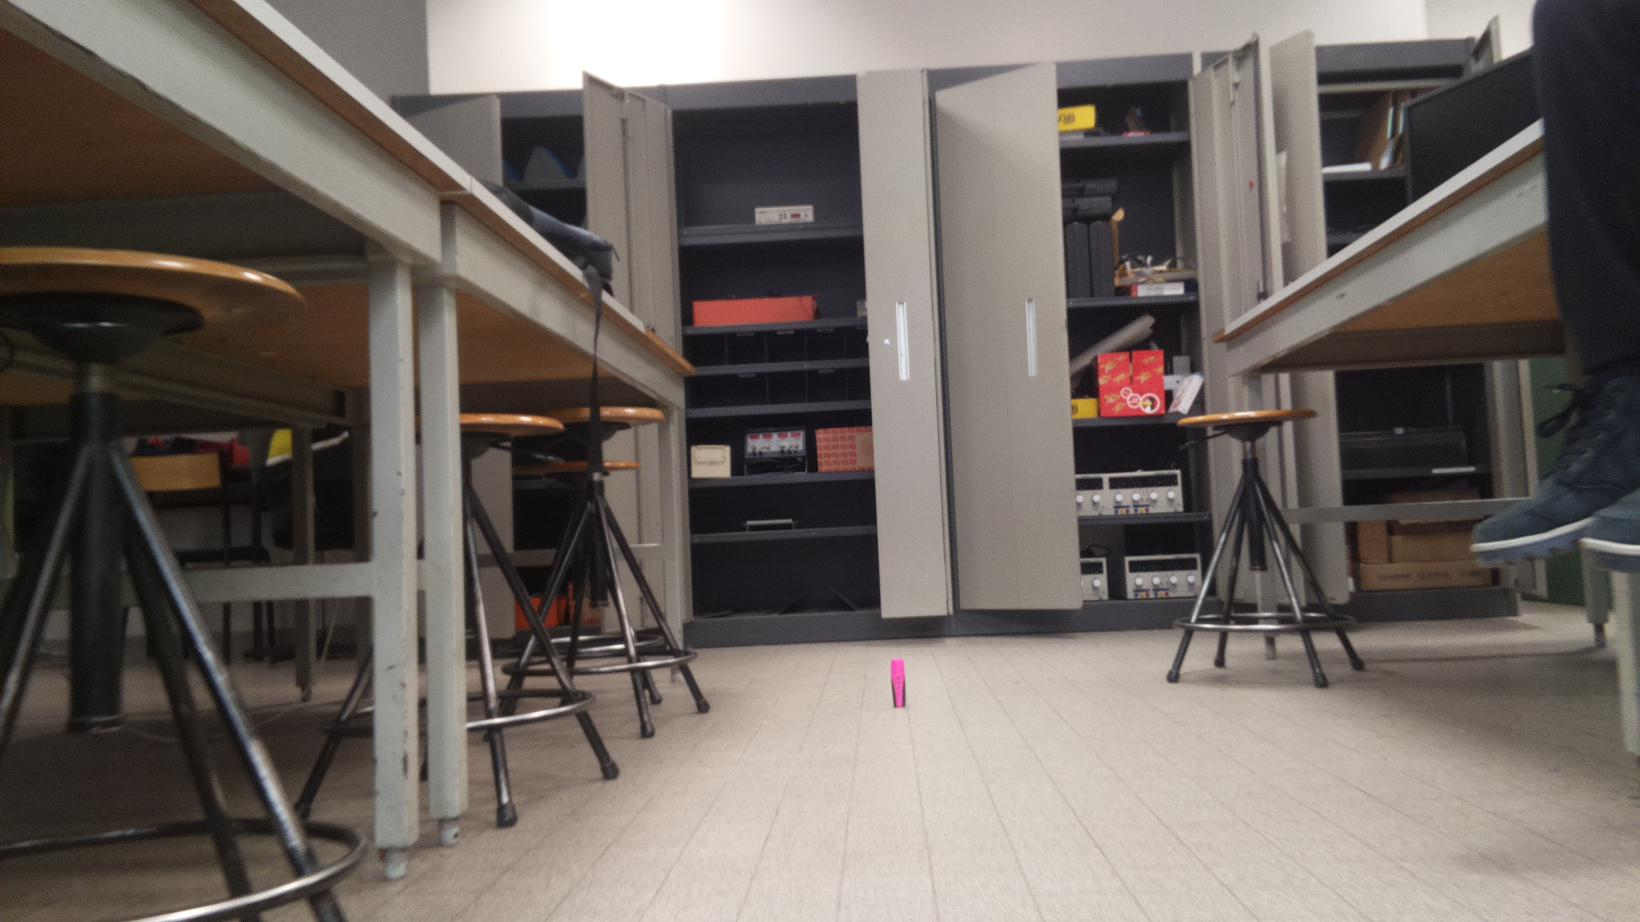small: (888, 656, 910, 710)
